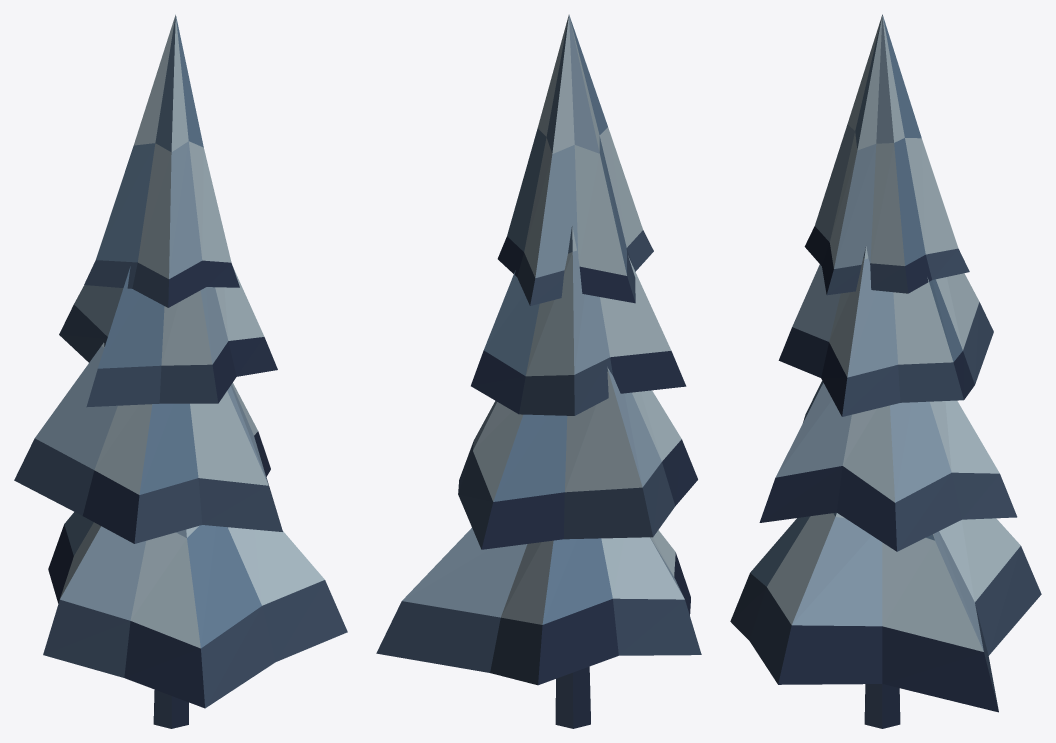
File: night-fir.glb
3 renders of one model, left to right at view 1: azimuth 30°, elevation 25°; view 2: azimuth 150°, elevation 25°; view 3: azimuth 270°, elevation 25°, orthographic.
Parts seen in each view (by area): view 1: night-fir; view 2: night-fir; view 3: night-fir.
Boxes of the visible parts, box(x1,y1,x2,y2) form: night-fir: box(14, 14, 347, 728); night-fir: box(376, 14, 701, 728); night-fir: box(730, 14, 1041, 728).
Size of the model in its own units: 2.88 by 7.25 by 2.89.
